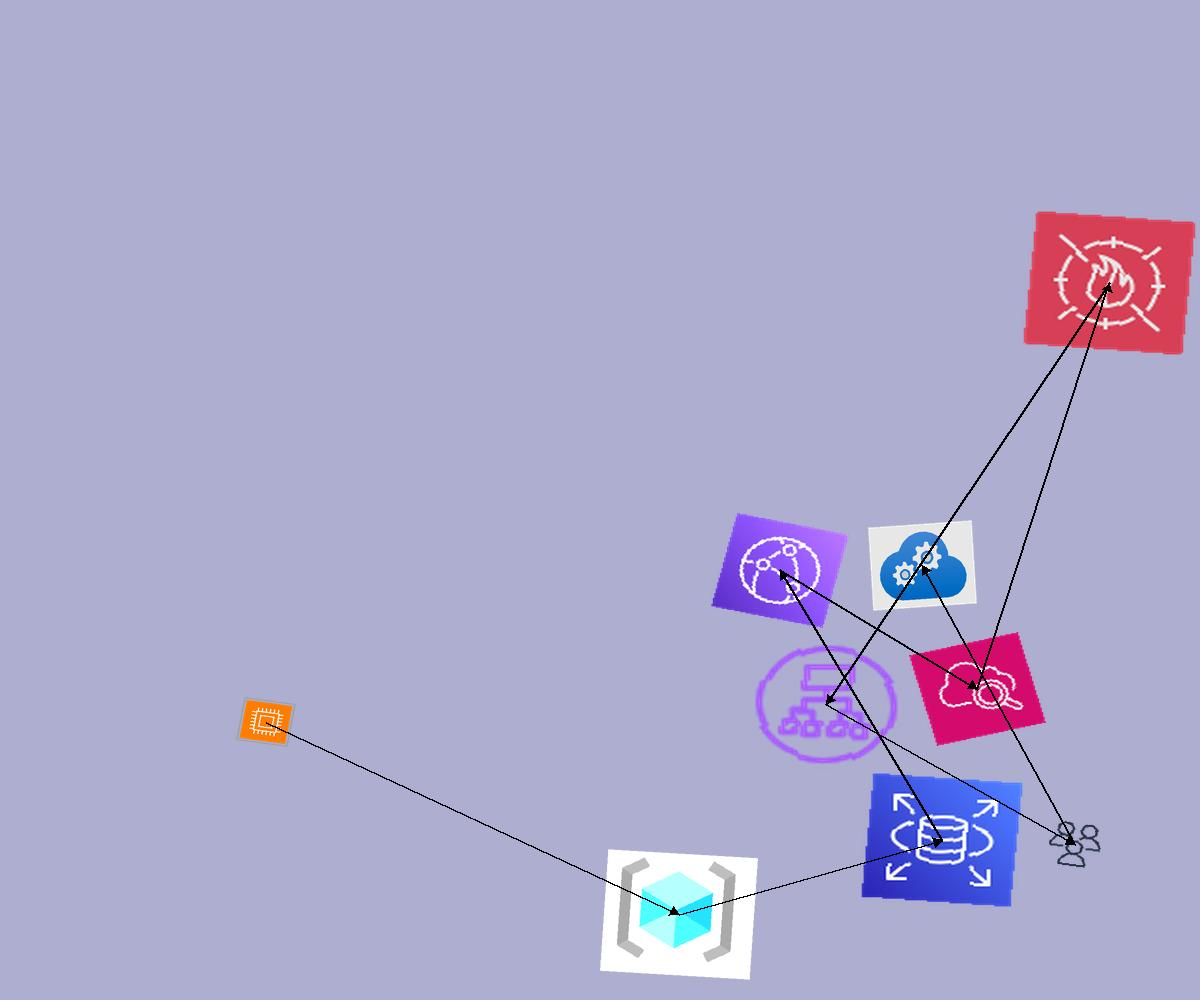AWS-Category_Compute: (236, 697, 296, 747)
AWS-CloudFront: (710, 512, 850, 629)
AWS-CloudWatch: (909, 632, 1046, 746)
AWS-RDS: (860, 772, 1024, 908)
AWS-Res_Elastic-Load-Balancing_Application-Load-Balancer: (743, 635, 910, 774)
AWS-Res_Users: (1042, 817, 1108, 872)
AWS-WAF: (1022, 210, 1197, 356)
Azure_cloud_services: (868, 520, 977, 611)
Azure_resource_group: (600, 849, 758, 980)
